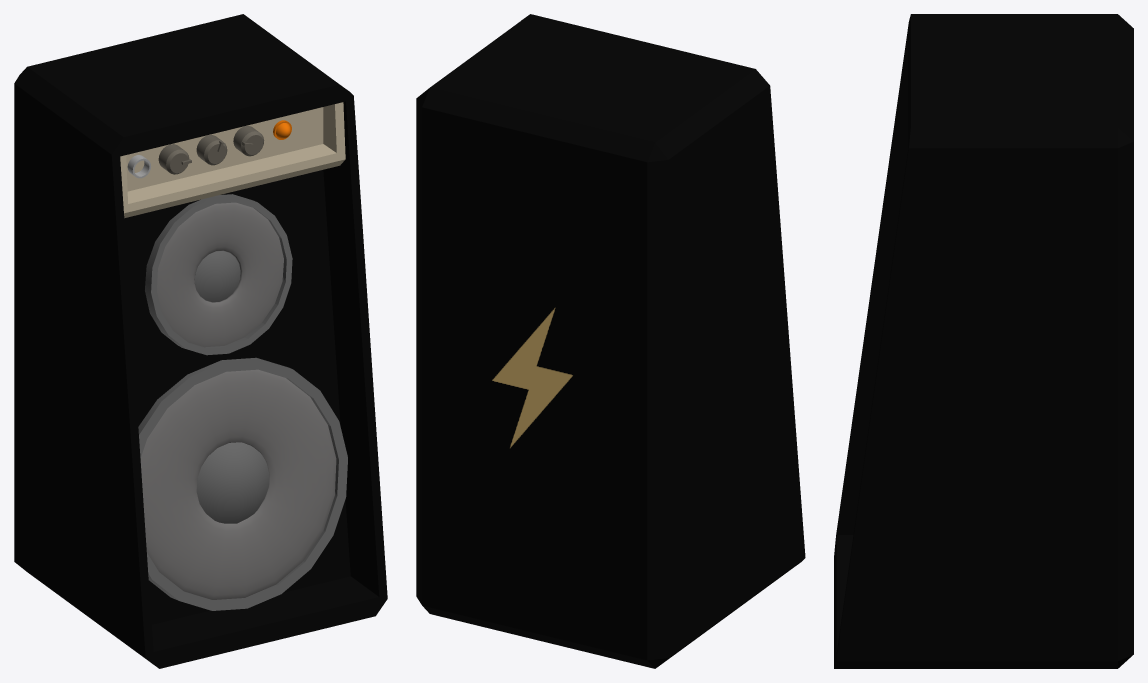
File: FastSpeaker.fbx
The picture shows the model from 3 angles, left to right: view 1: azimuth 30°, elevation 25°; view 2: azimuth 150°, elevation 25°; view 3: azimuth 270°, elevation 25°; orthographic projection. The views are drawn at different scales.
Parts seen in each view (by area): view 1: pCube3, pTorus1, pTorus2, pCube6, pCylinder3, pSphere1, pCylinder4, pSphere2, pCube8, pCube9, pCube10; view 2: pCube3; view 3: pCube3.
Boxes of the visible parts, <box> form: pCube3: <box>14,14,387,668</box>; pTorus1: <box>140,369,336,599</box>; pTorus2: <box>157,202,283,348</box>; pCube6: <box>120,102,345,218</box>; pCylinder3: <box>138,357,347,610</box>; pSphere1: <box>196,442,269,523</box>; pCylinder4: <box>145,194,292,355</box>; pSphere2: <box>194,251,240,302</box>; pCube8: <box>158,144,191,174</box>; pCube9: <box>196,135,227,165</box>; pCube10: <box>233,126,264,156</box>; pCube3: <box>416,14,805,668</box>; pCube3: <box>834,14,1133,668</box>.
Bounding box in the file's own units: 3.97 × 7.93 × 3.97.
7 materials, 1 textured.
